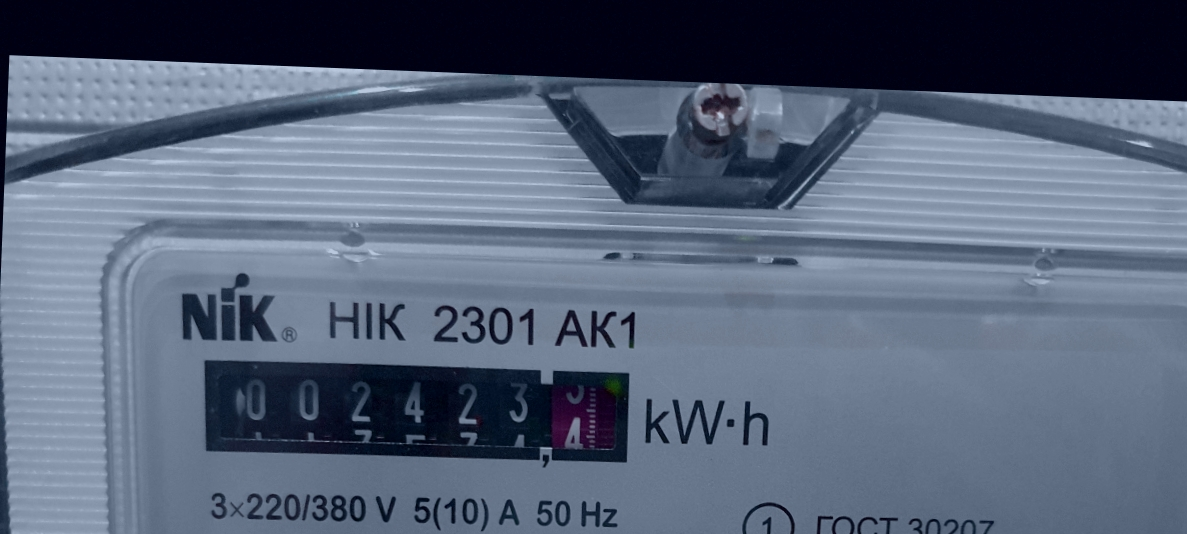0: (242, 374, 270, 424), (295, 377, 322, 422)
2: (347, 377, 374, 424), (454, 381, 480, 427)
3: (506, 379, 531, 425), (564, 382, 586, 405)
4: (402, 379, 426, 425), (561, 413, 587, 451)
screen: (190, 344, 644, 480)
